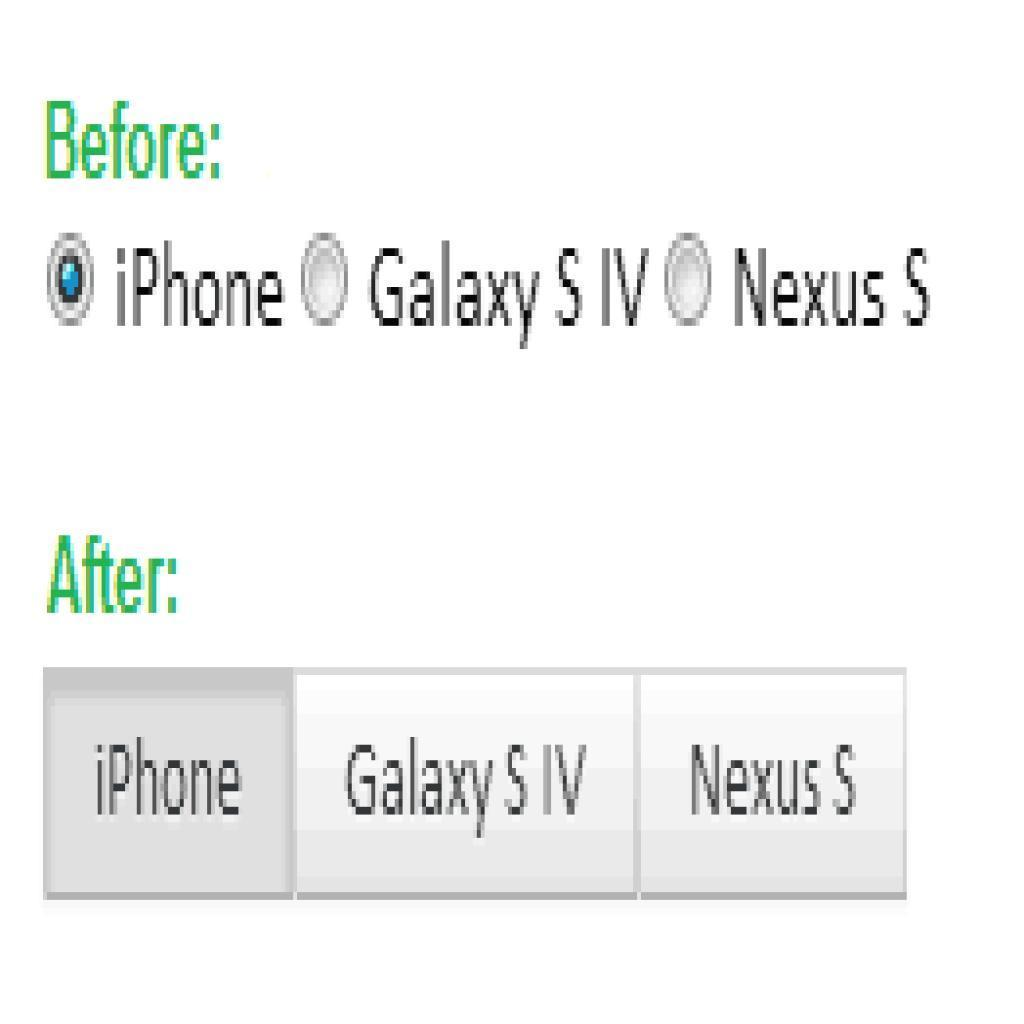radio: (294, 226, 357, 328), (663, 227, 718, 332), (44, 228, 95, 332)
